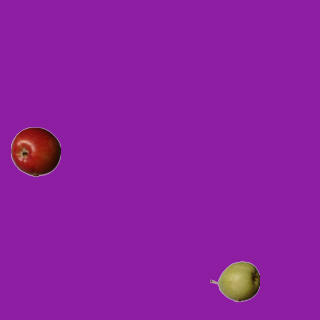Apple Braeburn: (10, 126, 60, 176)
Pear: (209, 256, 259, 306)
